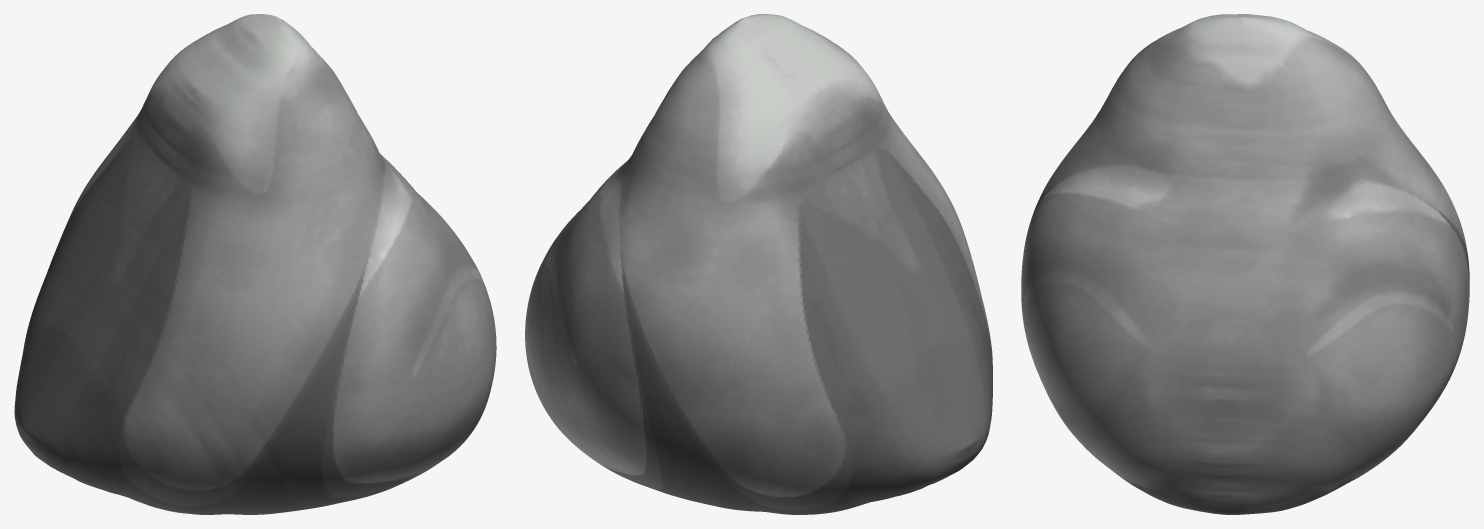
Rendered from stone1.fbx.
3 renders of one model, left to right at view 1: azimuth 30°, elevation 25°; view 2: azimuth 150°, elevation 25°; view 3: azimuth 270°, elevation 25°, orthographic.
Parts seen in each view (by area): view 1: root; view 2: root; view 3: root.
Part boxes in pixels (x1=…): root: x1=14, y1=14, x2=496, y2=514; root: x1=525, y1=14, x2=992, y2=514; root: x1=1021, y1=14, x2=1469, y2=514.
Bounding box in the file's own units: 0.8556 × 0.8847 × 0.8039.
Materials: 2 (2 with a texture image).
